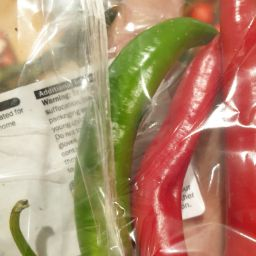Jalapeno pepper: (150, 10, 256, 256), (75, 10, 157, 251), (9, 175, 62, 256)
